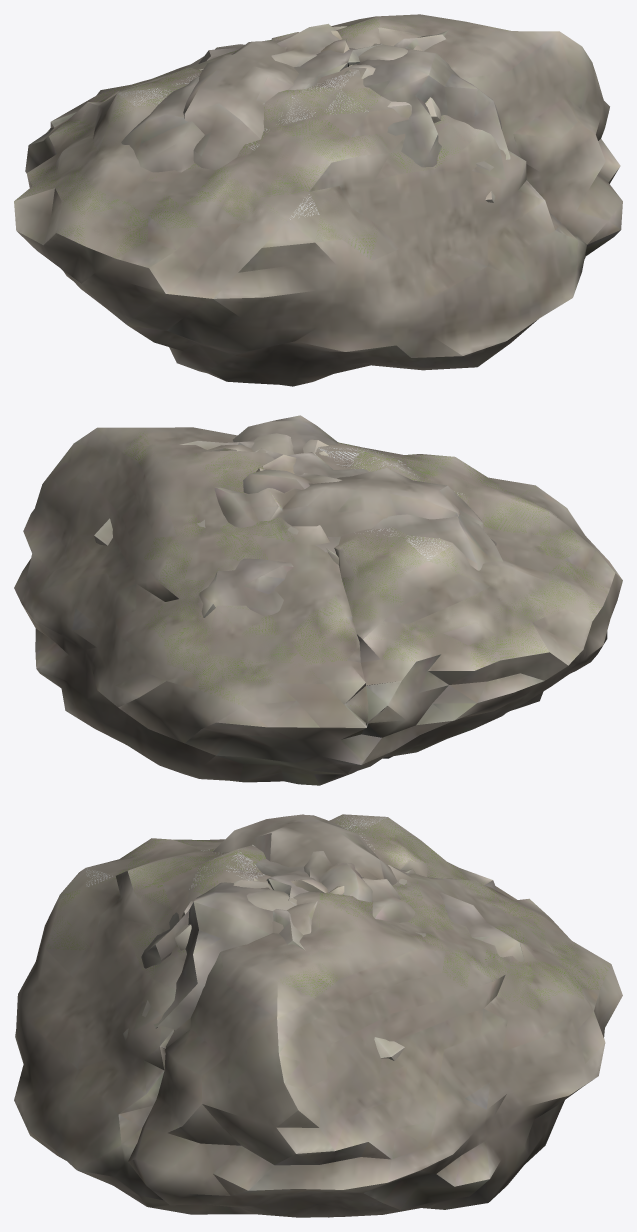
File: env-rocks.glb
3 views of the same model, one above another, from view 1: azimuth 30°, elevation 25°; view 2: azimuth 150°, elevation 25°; view 3: azimuth 270°, elevation 25° (orthographic). The views are drawn at different scales.
Parts seen in each view (by area): view 1: stone-c, stone-a, stone-moss-c, stone-e, stone-d, stone-f, stone-snow-c; view 2: stone-c, stone-moss-c, stone-e, stone-a, stone-d; view 3: stone-c, stone-a, stone-moss-c, stone-e, stone-d, stone-f.
Boxes of the visible parts, bbox=[...] form: stone-c: bbox=[14, 14, 622, 386]; stone-a: bbox=[121, 30, 510, 202]; stone-moss-c: bbox=[17, 15, 585, 271]; stone-e: bbox=[183, 26, 411, 169]; stone-d: bbox=[271, 23, 339, 66]; stone-f: bbox=[199, 27, 441, 123]; stone-snow-c: bbox=[119, 72, 368, 219]; stone-c: bbox=[14, 427, 622, 785]; stone-moss-c: bbox=[124, 428, 607, 784]; stone-e: bbox=[214, 433, 483, 537]; stone-a: bbox=[94, 415, 503, 617]; stone-d: bbox=[243, 469, 341, 493]; stone-c: bbox=[14, 814, 622, 1217]; stone-a: bbox=[123, 815, 524, 1060]; stone-moss-c: bbox=[46, 815, 609, 1210]; stone-e: bbox=[181, 814, 415, 922]; stone-d: bbox=[304, 851, 372, 902]; stone-f: bbox=[175, 868, 415, 950].
Size of the model in its own units: 2.42 by 1 by 2.07.
Materials: 1 (1 with a texture image).
